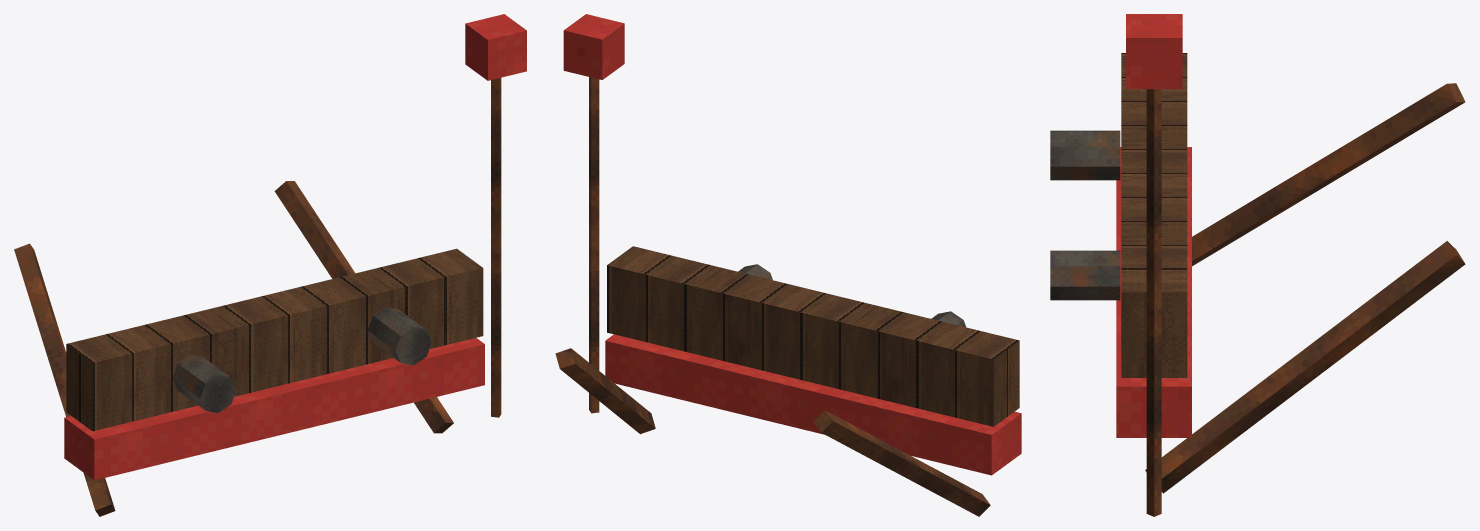
File: tope_via.obj
The picture shows the model from 3 angles, left to right: view 1: azimuth 30°, elevation 25°; view 2: azimuth 150°, elevation 25°; view 3: azimuth 270°, elevation 25°; orthographic projection. The views are drawn at different scales.
Parts seen in each view (by area): view 1: tope_via; view 2: tope_via; view 3: tope_via.
Boxes of the visible parts, <box> form: tope_via: <box>14,14,526,516</box>; tope_via: <box>555,14,1021,516</box>; tope_via: <box>1050,14,1465,516</box>.
Bounding box in the file's own units: 3.35 × 2.91 × 2.2.
Materials: 4 (4 with a texture image).
